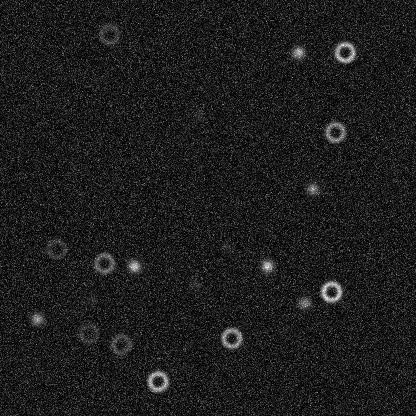Ring: (323, 120, 347, 144), (44, 236, 68, 260), (97, 22, 121, 46), (332, 40, 356, 64), (319, 279, 343, 303), (92, 251, 116, 275), (108, 332, 132, 356), (219, 325, 243, 349), (76, 321, 100, 345), (145, 369, 169, 393)
Spot: (290, 44, 306, 60), (259, 257, 275, 273), (218, 239, 234, 255), (186, 275, 202, 291), (82, 291, 98, 307), (29, 310, 45, 326), (190, 107, 206, 123), (126, 258, 142, 274), (296, 294, 312, 310), (304, 181, 320, 197)
